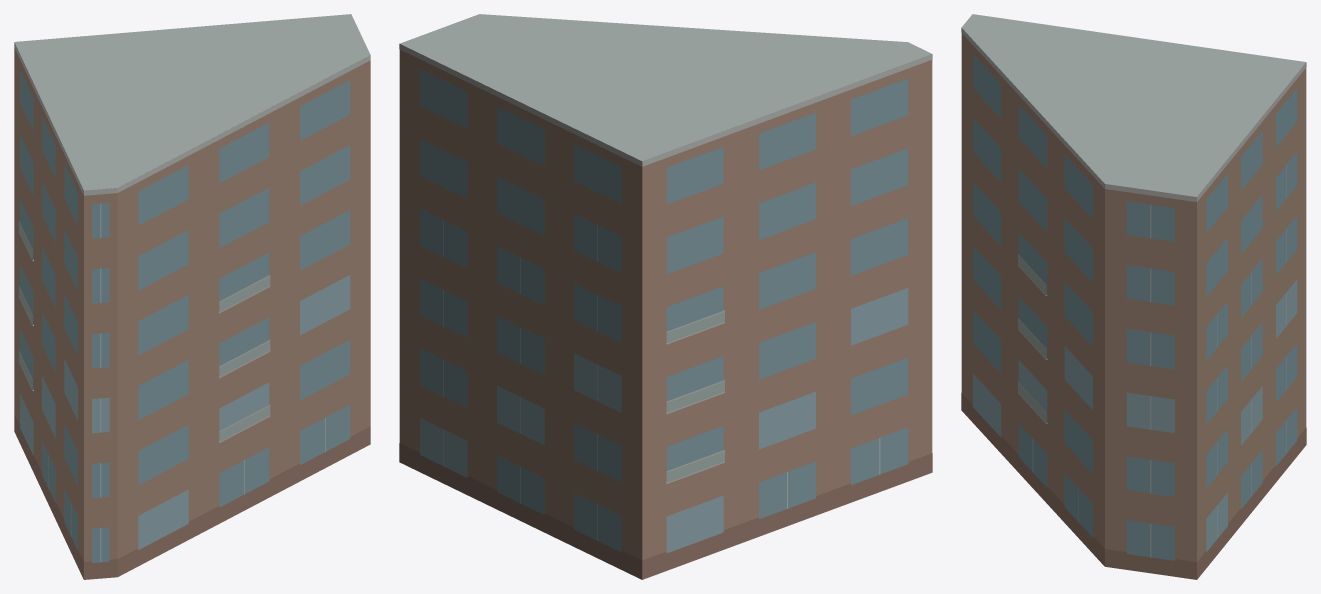
The model's file is survey-upis-32947967.glb.
3 renders of one model, left to right at view 1: azimuth 30°, elevation 25°; view 2: azimuth 150°, elevation 25°; view 3: azimuth 270°, elevation 25°, orthographic. The views are drawn at different scales.
Parts seen in each view (by area): view 1: survey-upis-32947967.tmp; view 2: survey-upis-32947967.tmp; view 3: survey-upis-32947967.tmp.
Boxes of the visible parts, x1,y1,x2,y2 form: survey-upis-32947967.tmp: (14, 14, 370, 579); survey-upis-32947967.tmp: (399, 14, 932, 579); survey-upis-32947967.tmp: (961, 14, 1306, 579).
Bounding box in the file's own units: 18.78 × 18.3 × 14.96.
